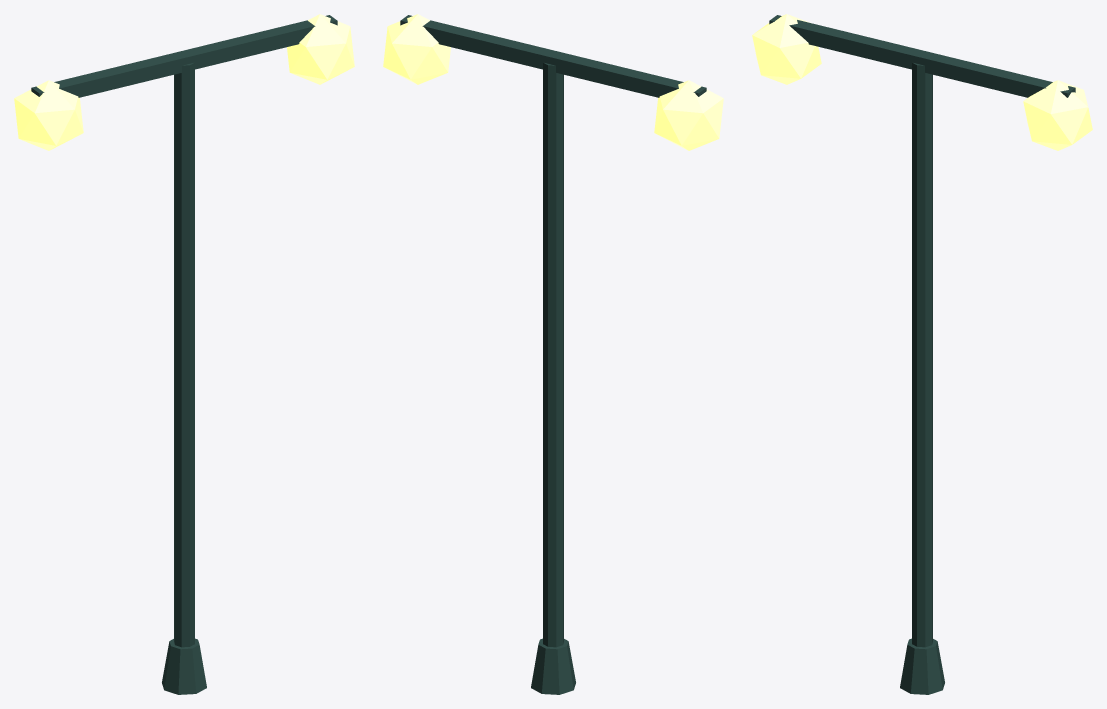
The model's file is double_lamp.glb.
3 renders of one model, left to right at view 1: azimuth 30°, elevation 25°; view 2: azimuth 150°, elevation 25°; view 3: azimuth 330°, elevation 25°, orthographic.
Visible parts, largest first — view 1: double_lamp; view 2: double_lamp; view 3: double_lamp.
Part boxes in pixels (x1=…): double_lamp: x1=14, y1=14, x2=354, y2=694; double_lamp: x1=383, y1=14, x2=723, y2=694; double_lamp: x1=752, y1=14, x2=1092, y2=694.
Size of the model in its own units: 2.45 by 4.5 by 0.4253.
